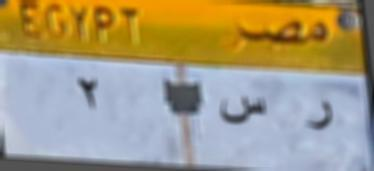2: (73, 70, 106, 113)
raa: (302, 90, 336, 138)
seen: (216, 86, 268, 131)
